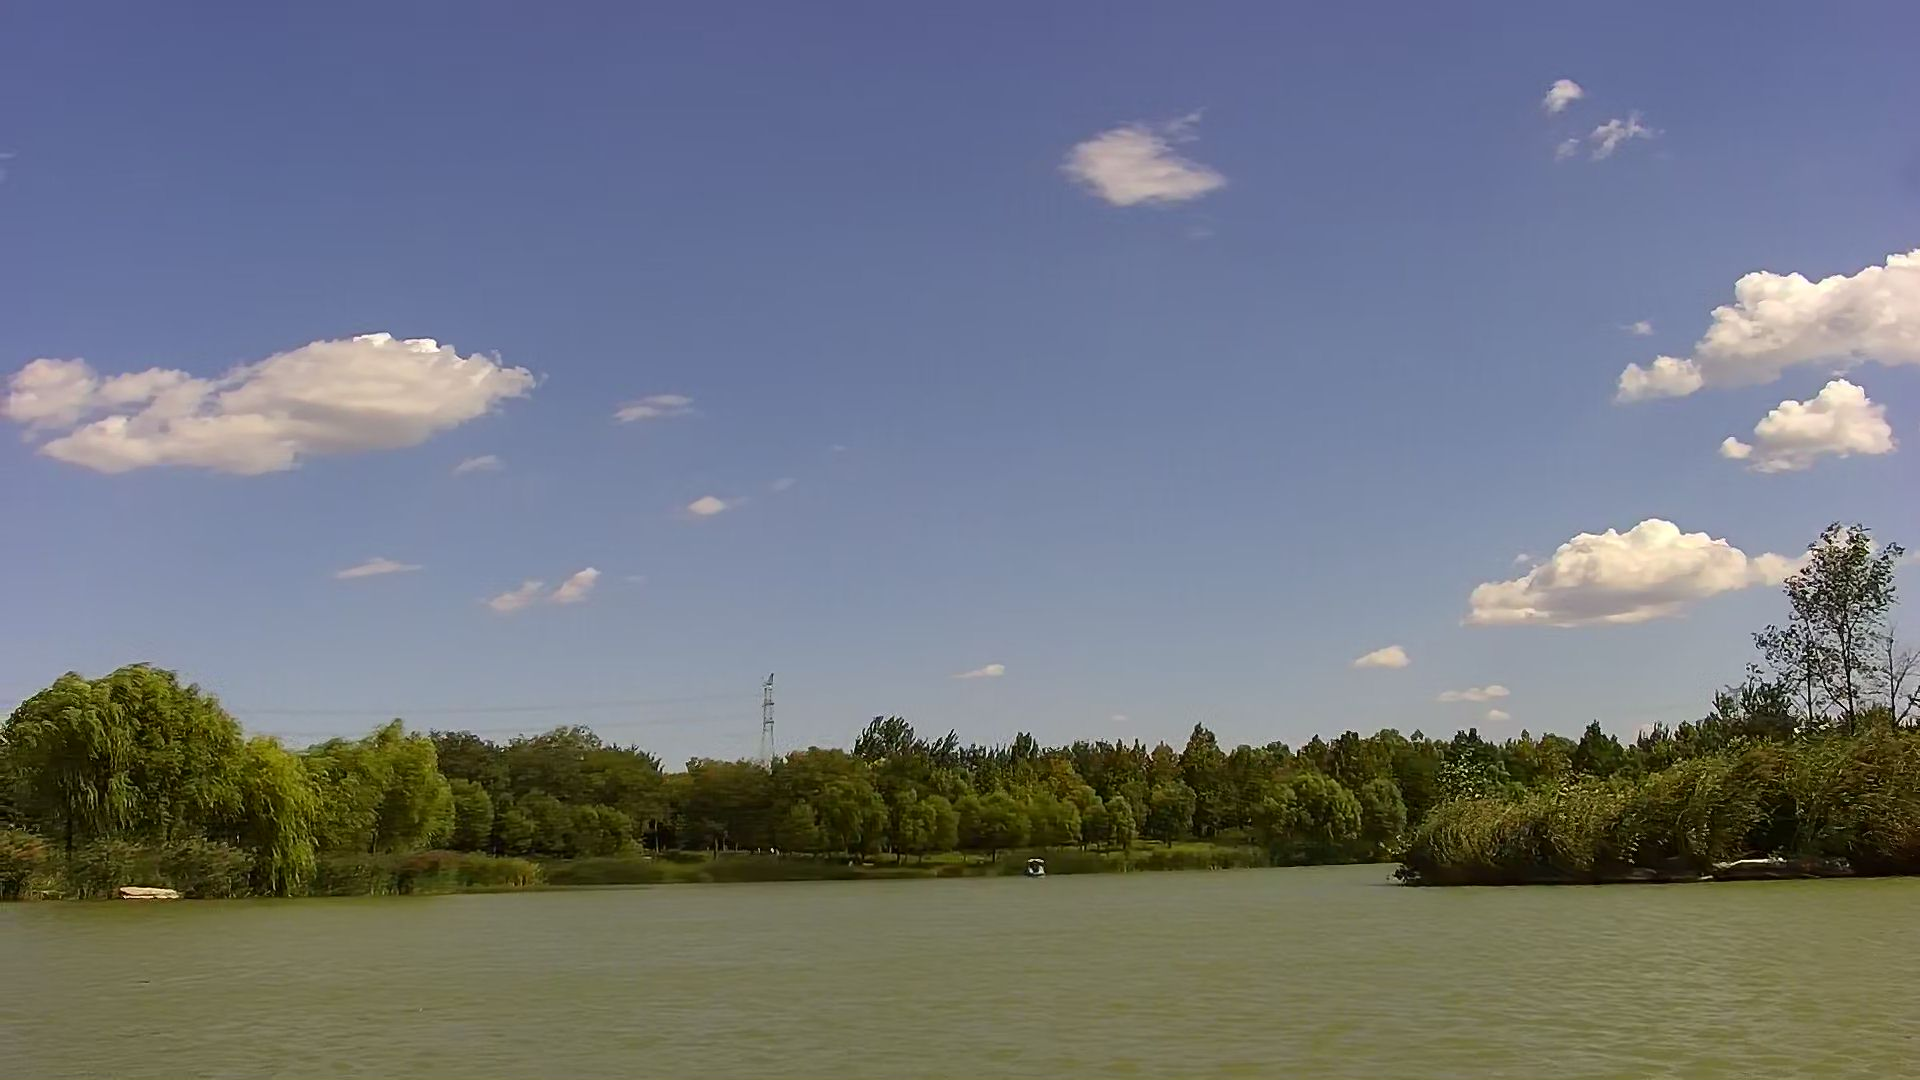boat: (1026, 858, 1050, 880)
